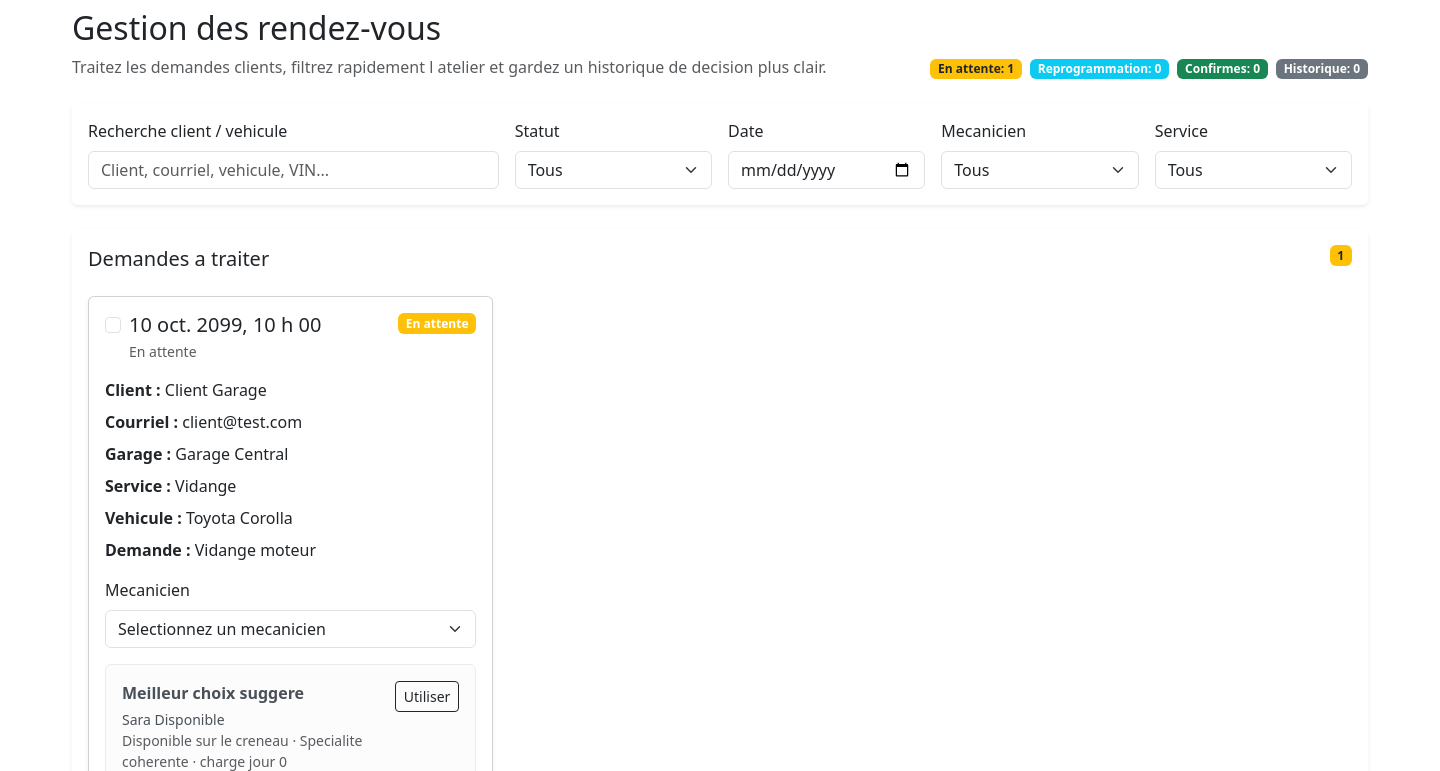
Test: GestionRendezVousGarage › garde la confirmation bloquee tant que l affectation n est pas complete puis la permet apres saisie
Click the button "Utiliser". click: (427,697)
box: [395,681,459,712]
(page scrolled)
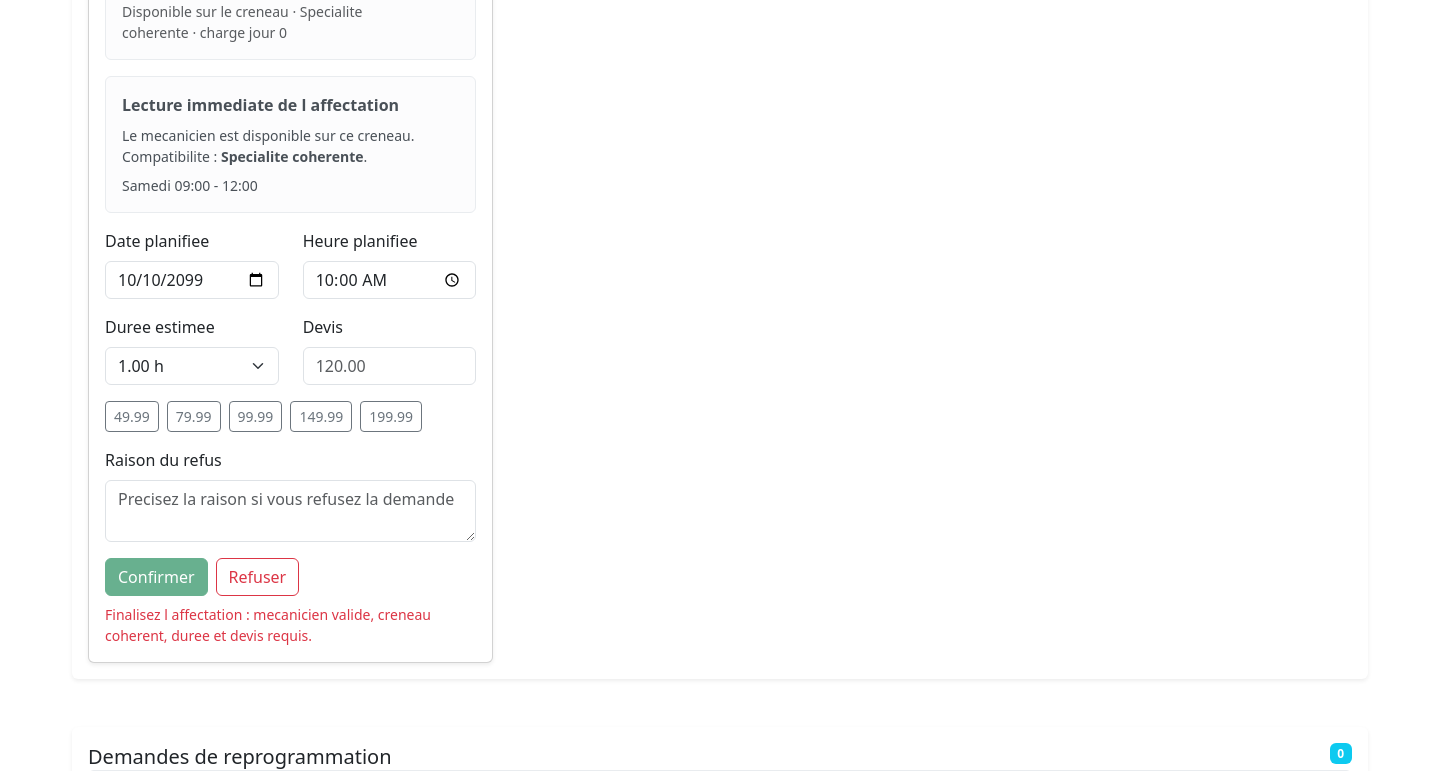
Select "1.00 h" in the dropdown. click: (192,366)
box: [105,347,279,385]
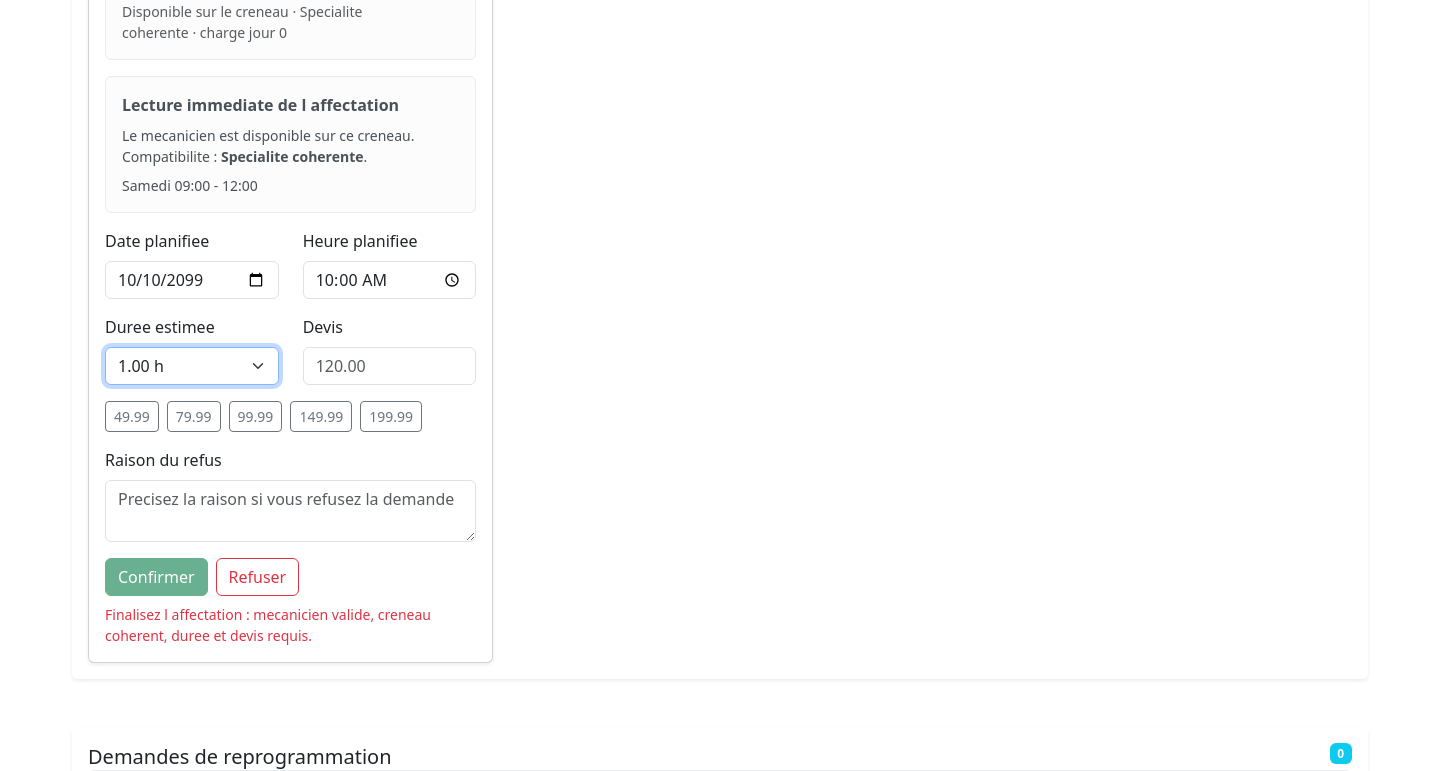
Type "120" into the number field. click: (390,366)
box: [303,347,476,385]
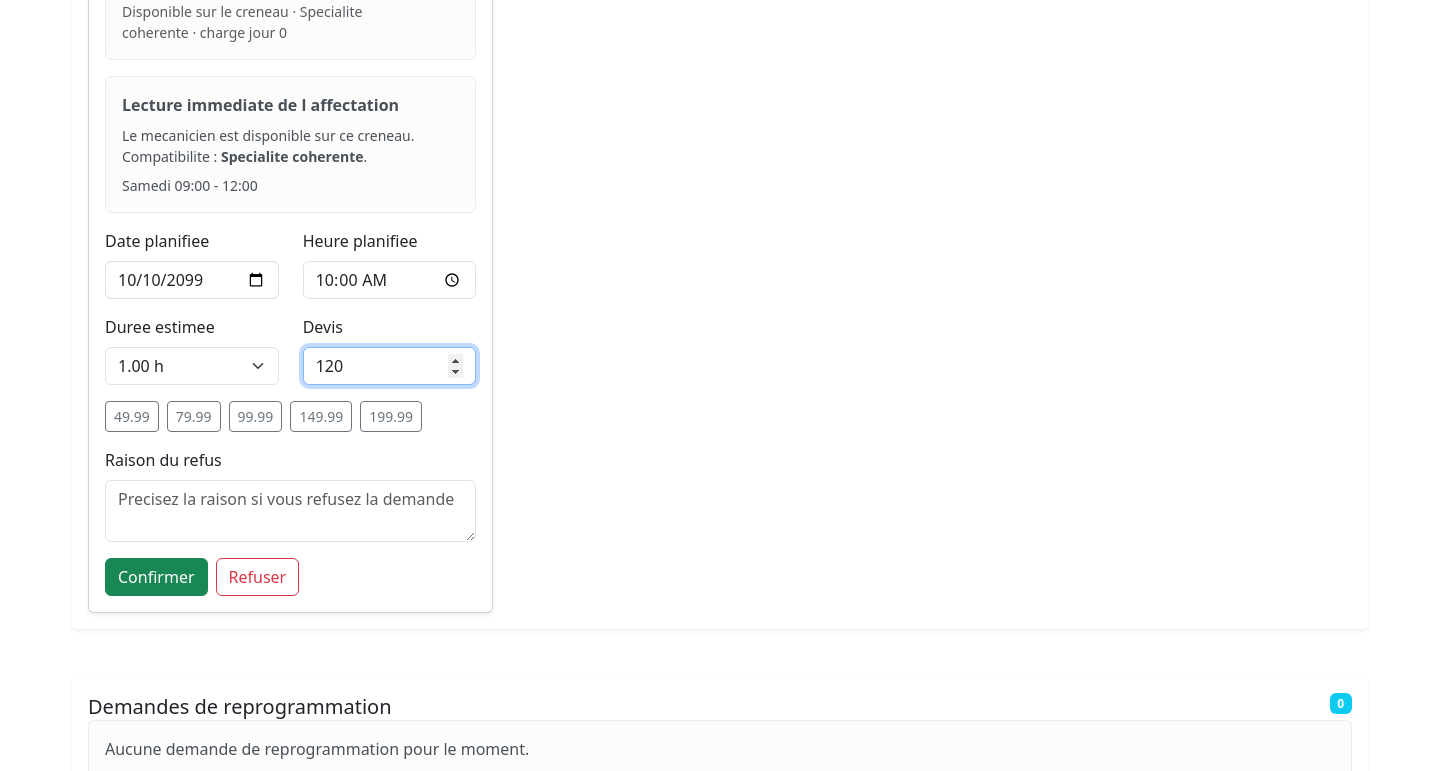
expect the button "Confirmer" is enabled: met, box [105,558,208,596]
